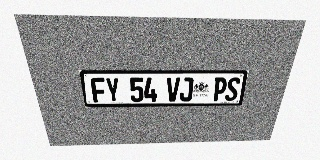4: (144, 77, 157, 102)
5: (130, 77, 144, 102)
F: (90, 78, 107, 102)
J: (179, 77, 194, 101)
P: (212, 77, 228, 101)
S: (224, 77, 241, 101)
V: (166, 77, 180, 102)
Y: (105, 78, 120, 102)
